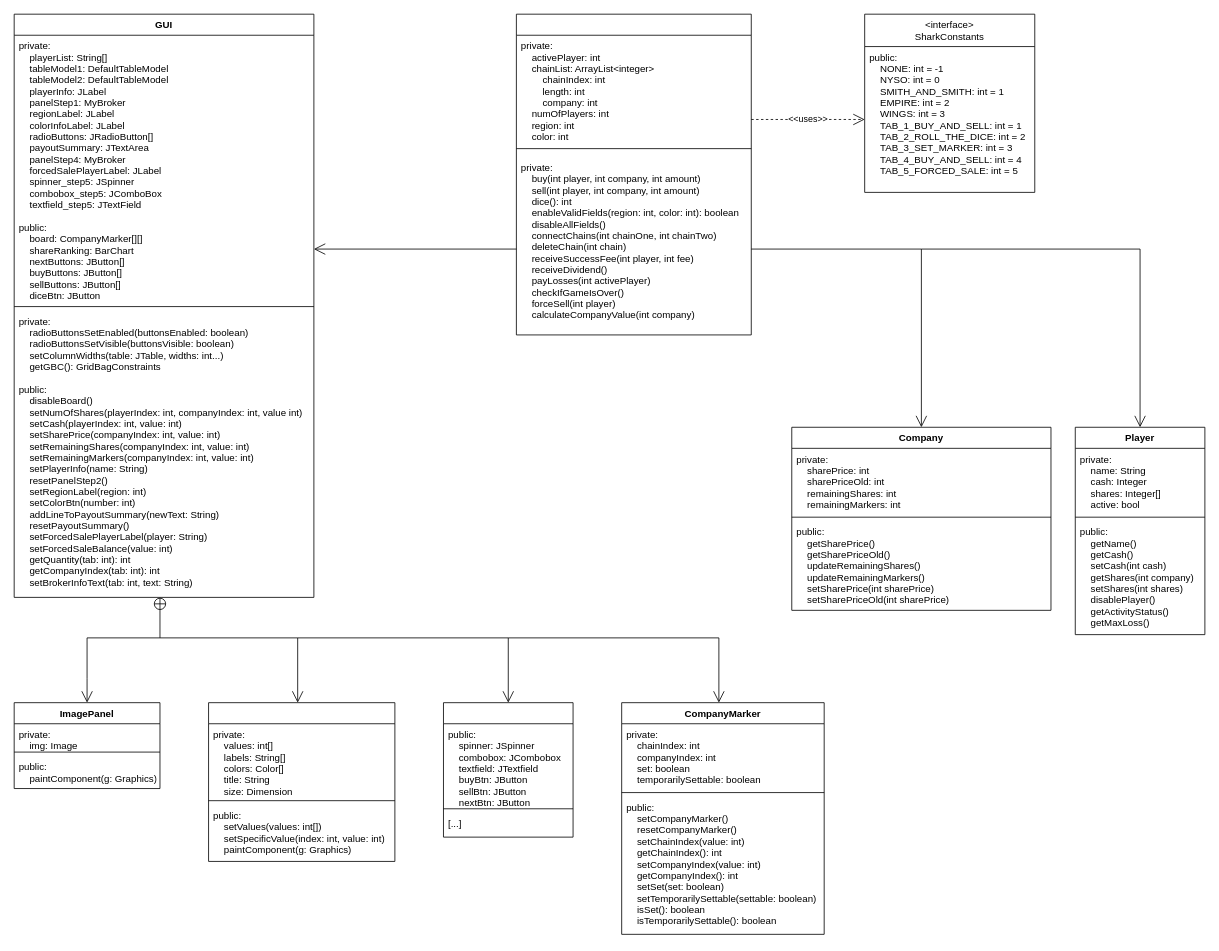
This 1219x951 diagram has some shape labels left out. The box of each missing label's shape, as (x1, y1, x2, y2) in pixels:
BarChart: (208, 702, 395, 861)
MyBroker: (443, 702, 573, 837)
Shark: (516, 13, 751, 335)
